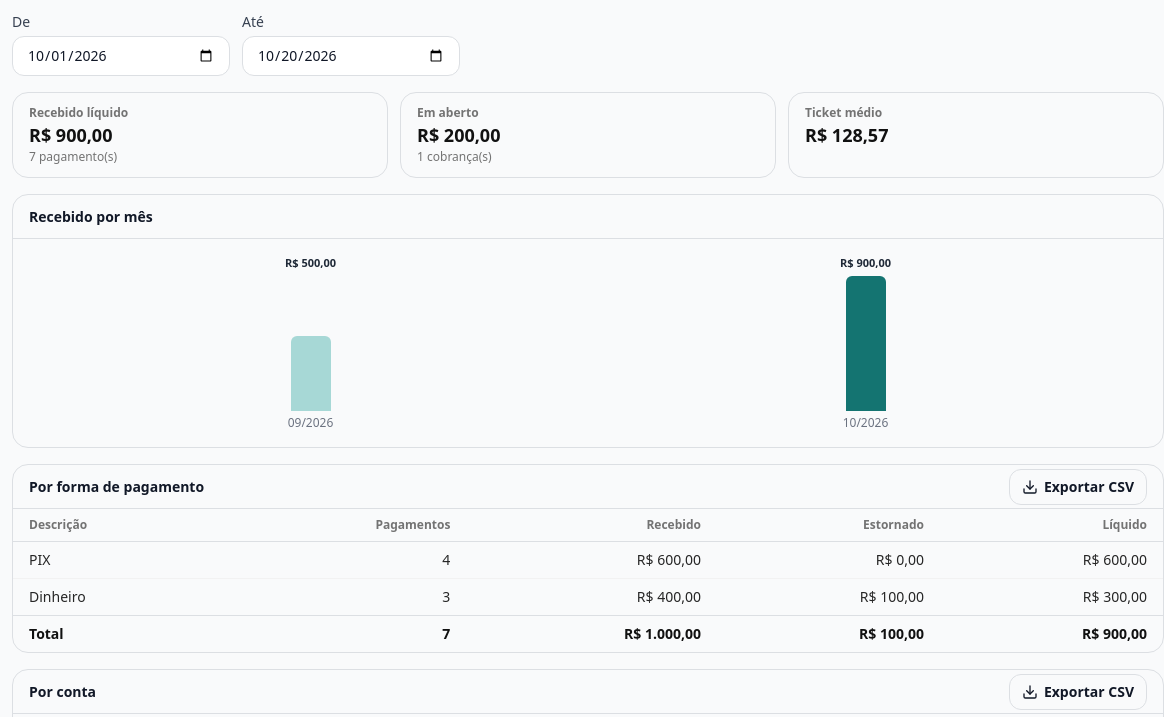
Test: ReportsTab › período invertido mostra erro e não consulta
This screenshot has width=1164, height=717.
Expected: the table named "Por forma de pagamento" is shown, 13,509 -> 1163,652
In the date field labelled "De": {"x": 121, "y": 56} 12,36 -> 230,76, type "2026-11-01"
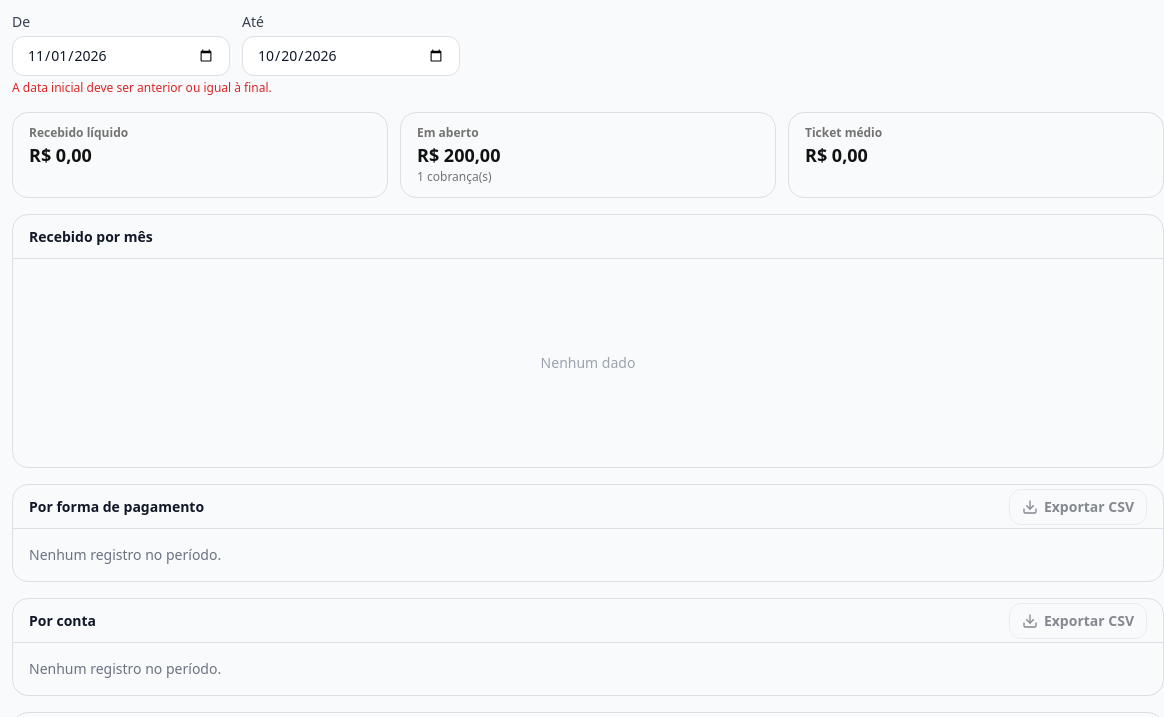
Expected: the text "A data inicial deve ser anterior ou igual à final." is shown, 12,79 -> 272,96
